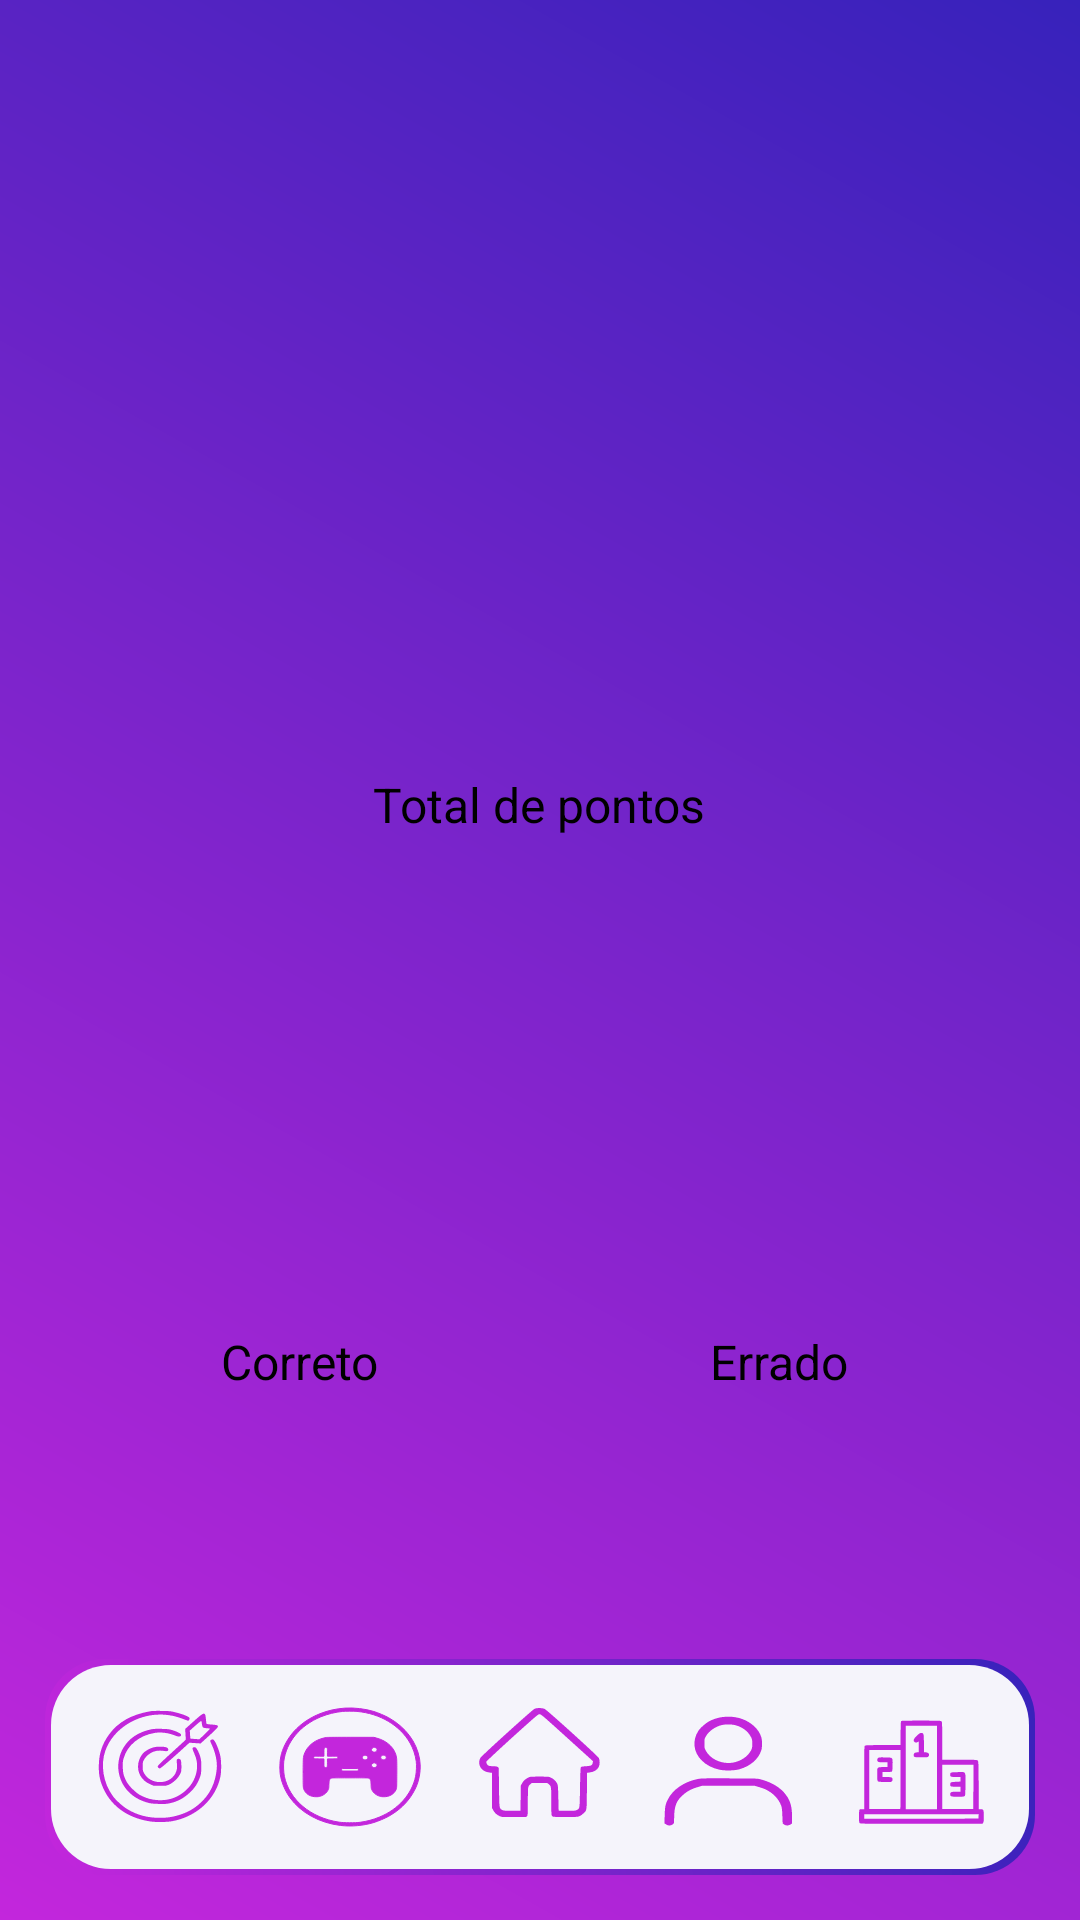

Icon bounding boxes for this 1080px x 1920px phone screenshot, format bbox=(x1, y1, x2, y2):
home: bbox=(479, 1708, 600, 1817)
person: bbox=(664, 1716, 792, 1826)
ranking: bbox=(859, 1720, 984, 1824)
target: bbox=(98, 1710, 222, 1822)
